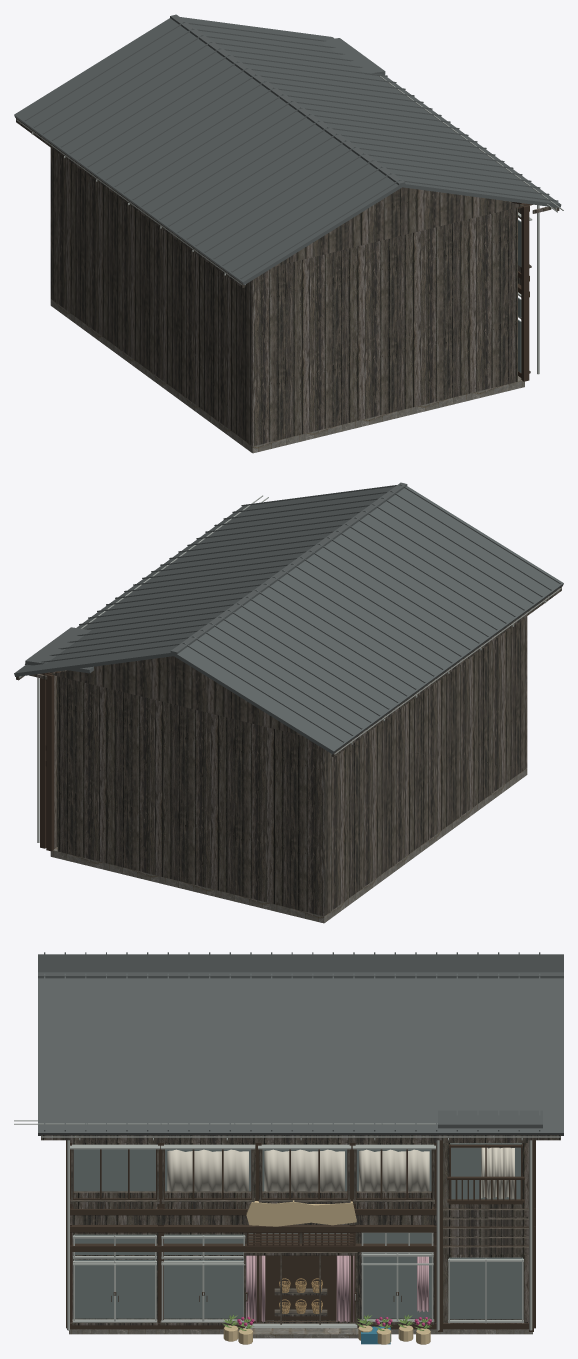
The model's file is mori-workshop-v3.glb.
The picture shows the model from 3 angles, top to bottom: view 1: azimuth 30°, elevation 25°; view 2: azimuth 150°, elevation 25°; view 3: azimuth 270°, elevation 25°; orthographic projection. The views are drawn at different scales.
Visible parts, largest first — view 1: Craft display shelf.002 runtime, Folded metal ridge cap.001 runtime, Stone footing.001 runtime, East continuous timber rail.005 runtime, Downpipe.003 runtime; view 2: Craft display shelf.002 runtime, Folded metal ridge cap.001 runtime, Stone footing.001 runtime, East continuous timber rail.005 runtime, Downpipe.003 runtime; view 3: Folded metal ridge cap.001 runtime, Recess behind window.014 runtime, Craft display shelf.002 runtime, East continuous timber rail.005 runtime, Downpipe.003 runtime, Folded fabric curtain.007 runtime, Flower pot.006 runtime, Folded fabric curtain.010 runtime, Stone footing.001 runtime, Basket curved handle.072 runtime, V3 facade details Mori potted foliage.004 runtime.
Part boxes in pixels (left/top/right/bottom): Craft display shelf.002 runtime: left=16, top=118, right=559, bottom=446; Folded metal ridge cap.001 runtime: left=14, top=14, right=561, bottom=284; Stone footing.001 runtime: left=50, top=299, right=524, bottom=453; East continuous timber rail.005 runtime: left=514, top=202, right=532, bottom=381; Downpipe.003 runtime: left=16, top=75, right=563, bottom=374; Craft display shelf.002 runtime: left=16, top=586, right=561, bottom=916; Folded metal ridge cap.001 runtime: left=14, top=482, right=563, bottom=754; Stone footing.001 runtime: left=50, top=768, right=527, bottom=923; East continuous timber rail.005 runtime: left=40, top=671, right=60, bottom=851; Downpipe.003 runtime: left=19, top=495, right=561, bottom=842; Folded metal ridge cap.001 runtime: left=38, top=952, right=563, bottom=1135; Recess behind window.014 runtime: left=73, top=1143, right=522, bottom=1319; Craft display shelf.002 runtime: left=41, top=1135, right=560, bottom=1327; East continuous timber rail.005 runtime: left=66, top=1140, right=535, bottom=1331; Downpipe.003 runtime: left=14, top=1120, right=560, bottom=1330; Folded fabric curtain.007 runtime: left=167, top=1147, right=514, bottom=1199; Flower pot.006 runtime: left=223, top=1200, right=430, bottom=1344; Folded fabric curtain.010 runtime: left=246, top=1255, right=428, bottom=1322; Stone footing.001 runtime: left=69, top=1328, right=532, bottom=1338; Basket curved handle.072 runtime: left=279, top=1278, right=322, bottom=1313; V3 facade details Mori potted foliage.004 runtime: left=222, top=1314, right=431, bottom=1330.
Size of the model in its own units: 11.58 by 8.53 by 14.93.
13 materials, 2 textured.
